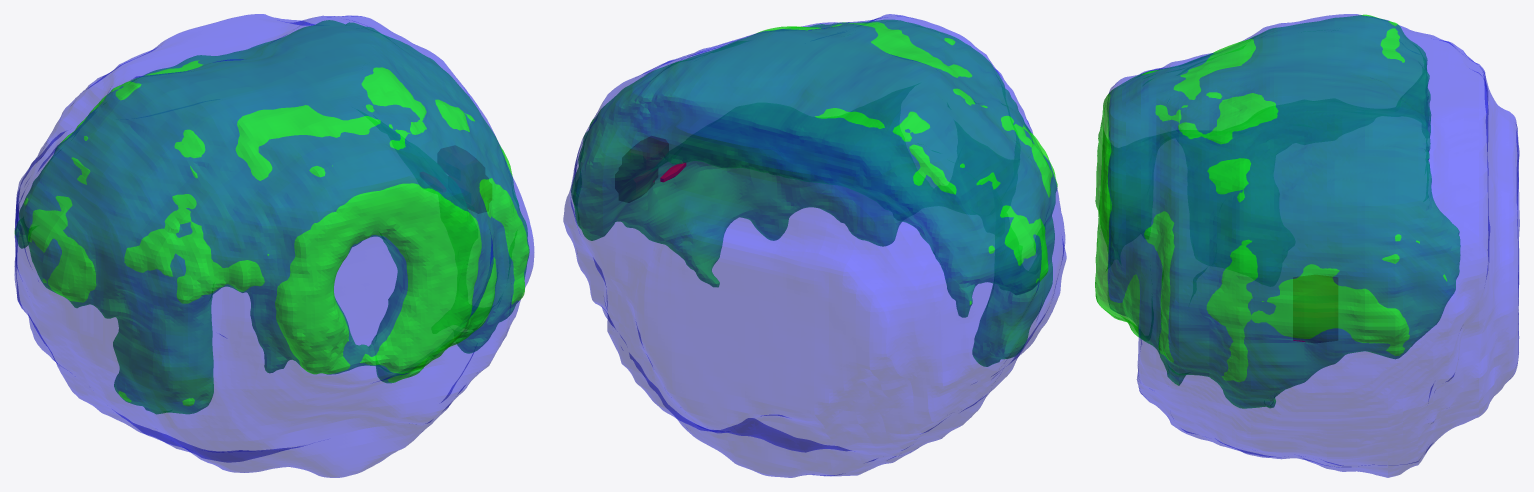
The model's file is NCKU_Test_50.glb.
3 views of the same model, side by side, from view 1: azimuth 30°, elevation 25°; view 2: azimuth 150°, elevation 25°; view 3: azimuth 270°, elevation 25° (orthographic). The views are drawn at different scales.
Visible parts, largest first — view 1: model_gland.obj, model_pz.obj; view 2: model_gland.obj, model_pz.obj; view 3: model_gland.obj, model_pz.obj.
Boxes of the visible parts, bbox=[...] form: model_gland.obj: bbox=[14, 14, 534, 477]; model_pz.obj: bbox=[14, 20, 529, 414]; model_gland.obj: bbox=[563, 14, 1066, 477]; model_pz.obj: bbox=[571, 20, 1057, 366]; model_gland.obj: bbox=[1107, 14, 1519, 477]; model_pz.obj: bbox=[1095, 14, 1460, 408].
Size of the model in its own units: 0.05 by 0.0424 by 0.042.
